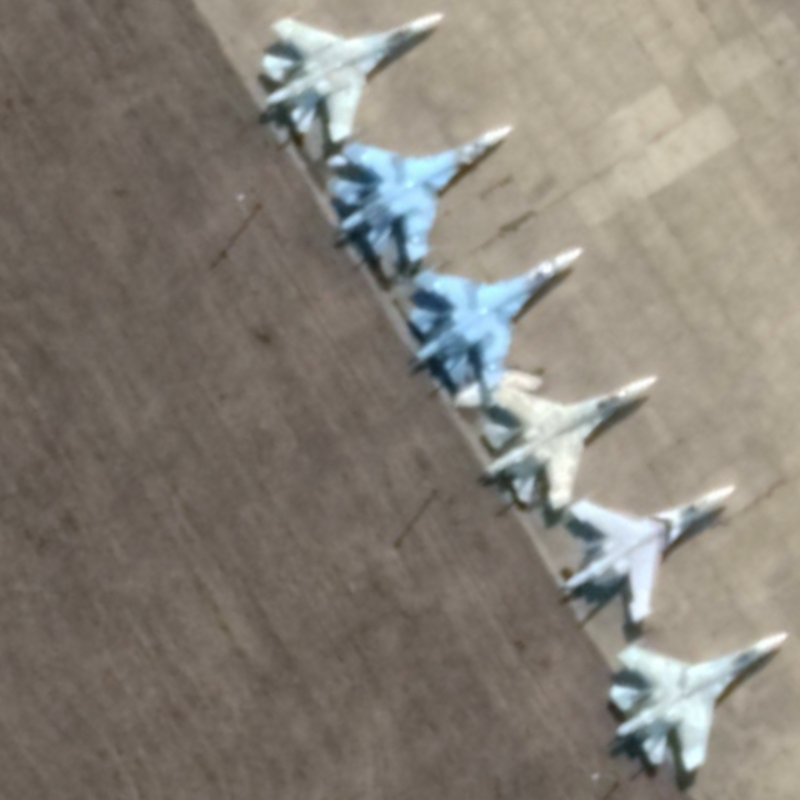A1: (403, 244, 587, 394), (323, 122, 514, 266), (605, 629, 791, 776), (560, 482, 738, 630), (479, 373, 659, 516), (259, 9, 444, 148)
